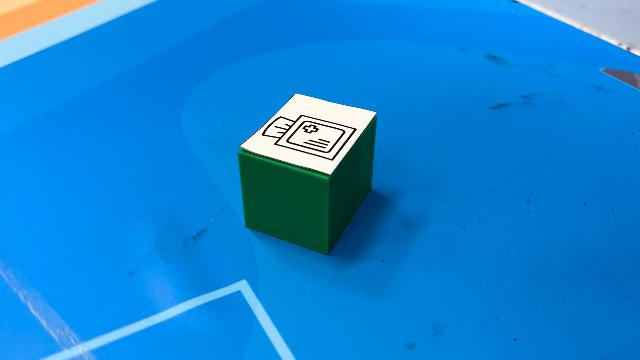napkin: (236, 91, 380, 255)
